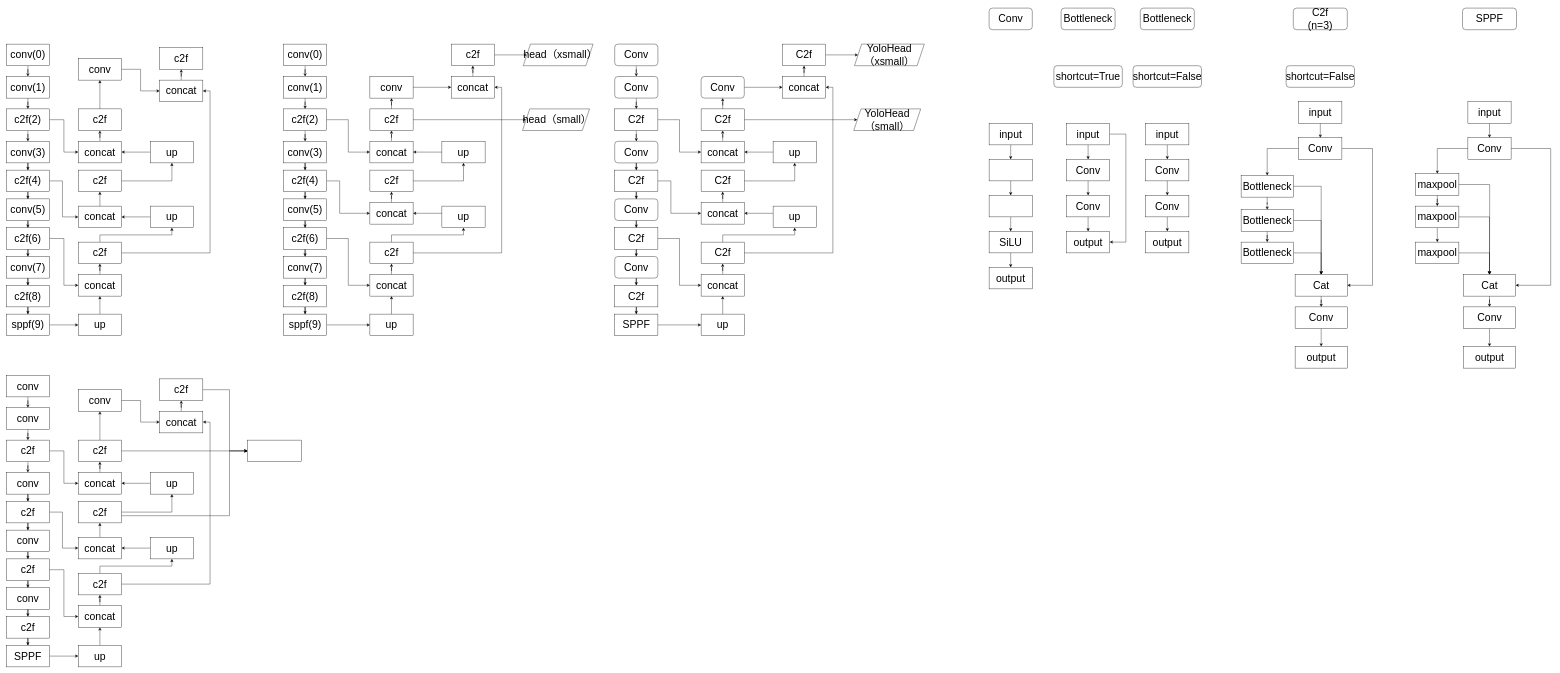
The diagram is 1560 pixels wide and 673 high, and some of its shapes have lost their labels. The shapes that lost their labels are listed below. From the top down, each one's centre as x and y in pixels, then its label:
the point at 1010,170: Conv2d
the point at 1010,206: bn
the point at 274,451: segment
